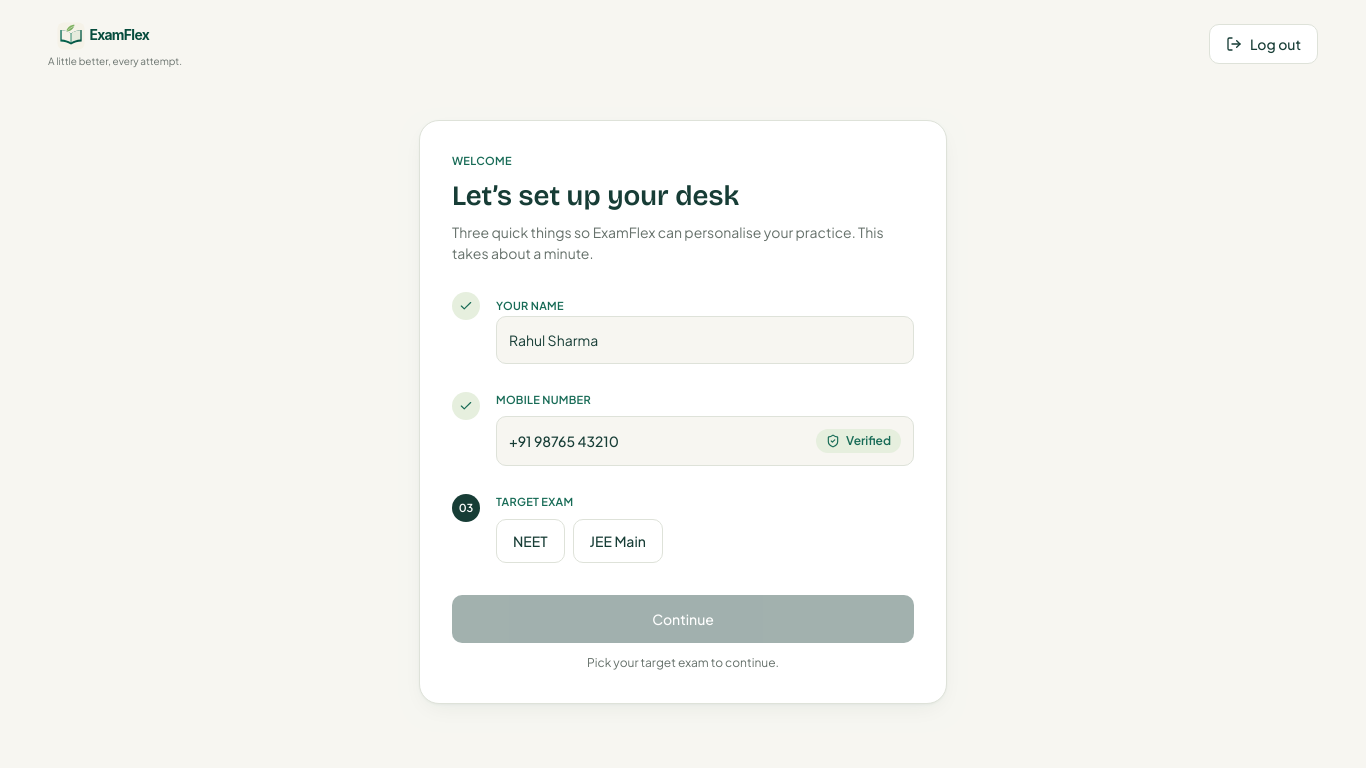
OnboardingScreen › finishing › shows the server's message and stays on the screen when saving fails
Step 1. Click the radio button labelled "NEET" → (530, 541), box [496,519,565,563]
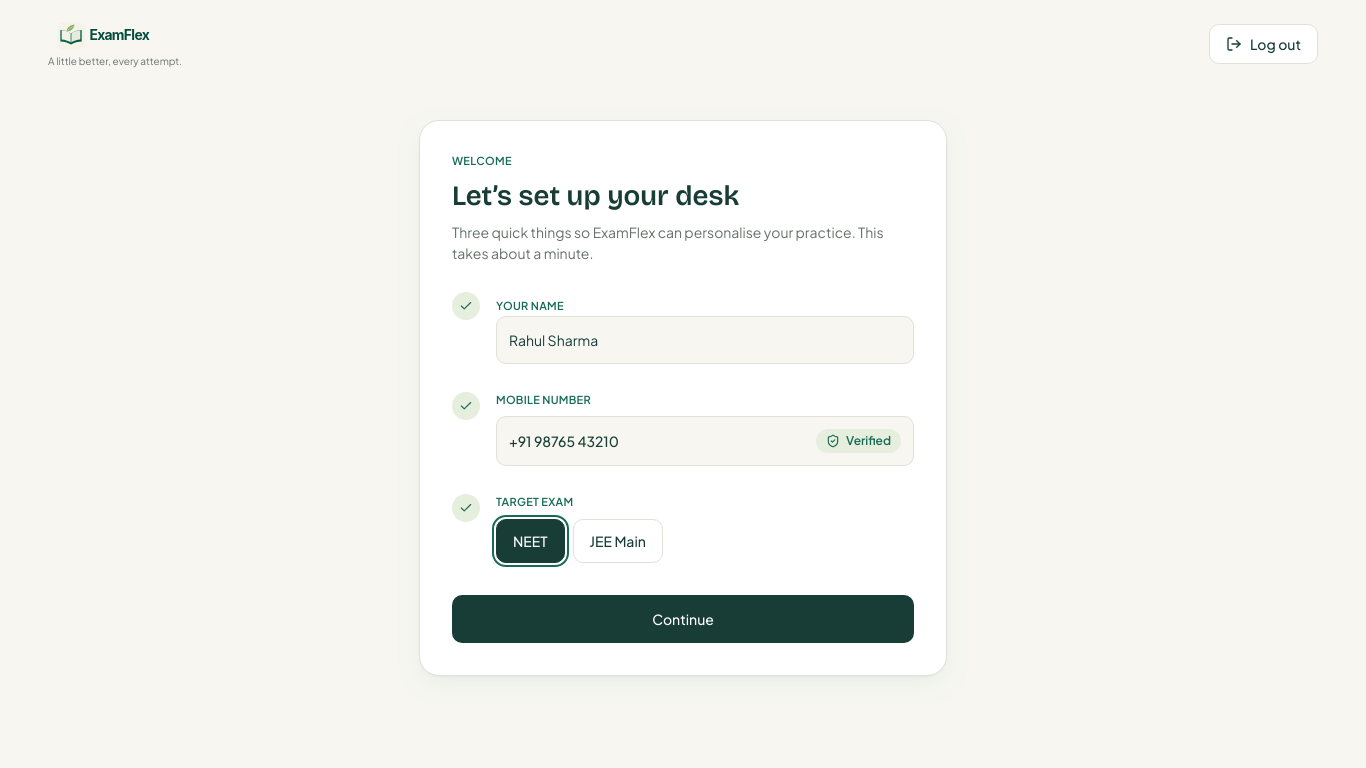
Step 2. Click the button "Continue" → (683, 619), box [452,595,914,643]
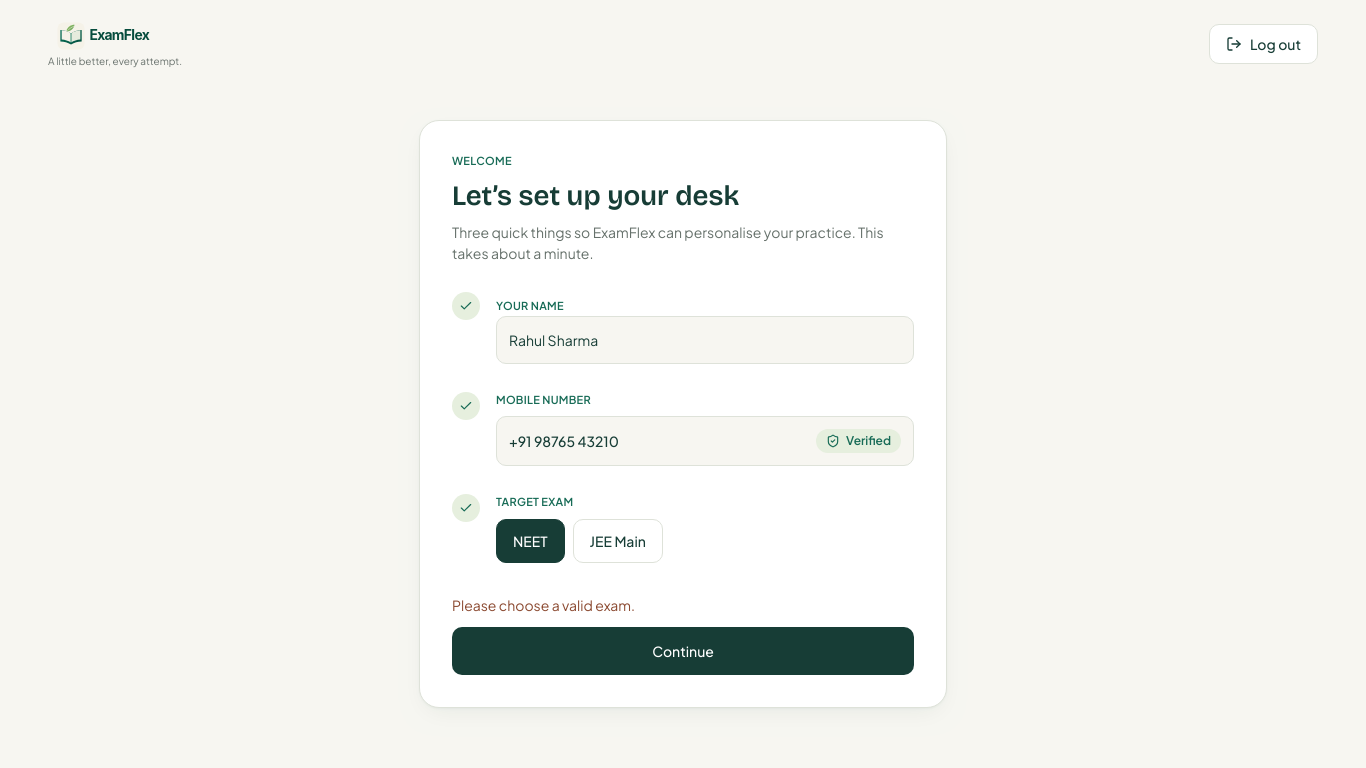
Check: the button "Continue" is enabled, box [452,627,914,675]
Check: the text "Please choose a valid exam." is shown, box [452,596,635,614]
